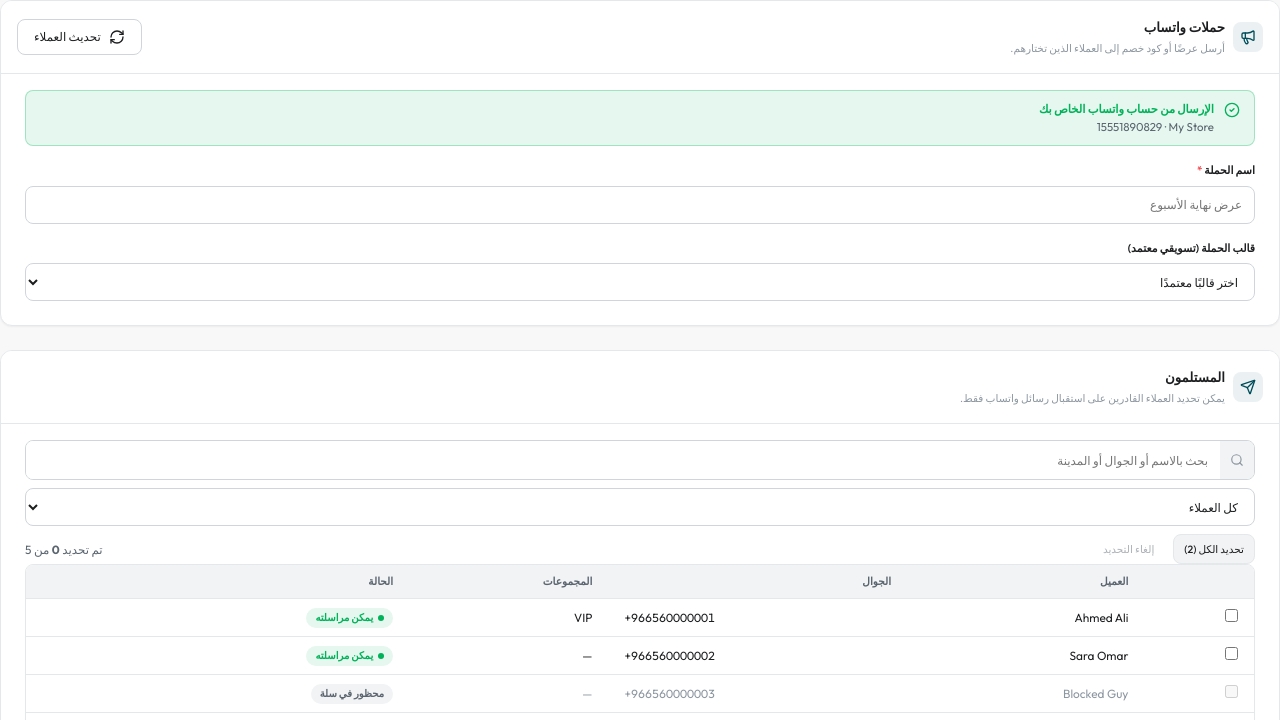
Test: CampaignsTab › filters by customer group
Expected: the text "Ahmed Ali" is shown, [907, 598, 1144, 637]
Select "VIP" in the dropdown named "مجموعة العملاء" at (640, 507), box [25, 488, 1255, 526]
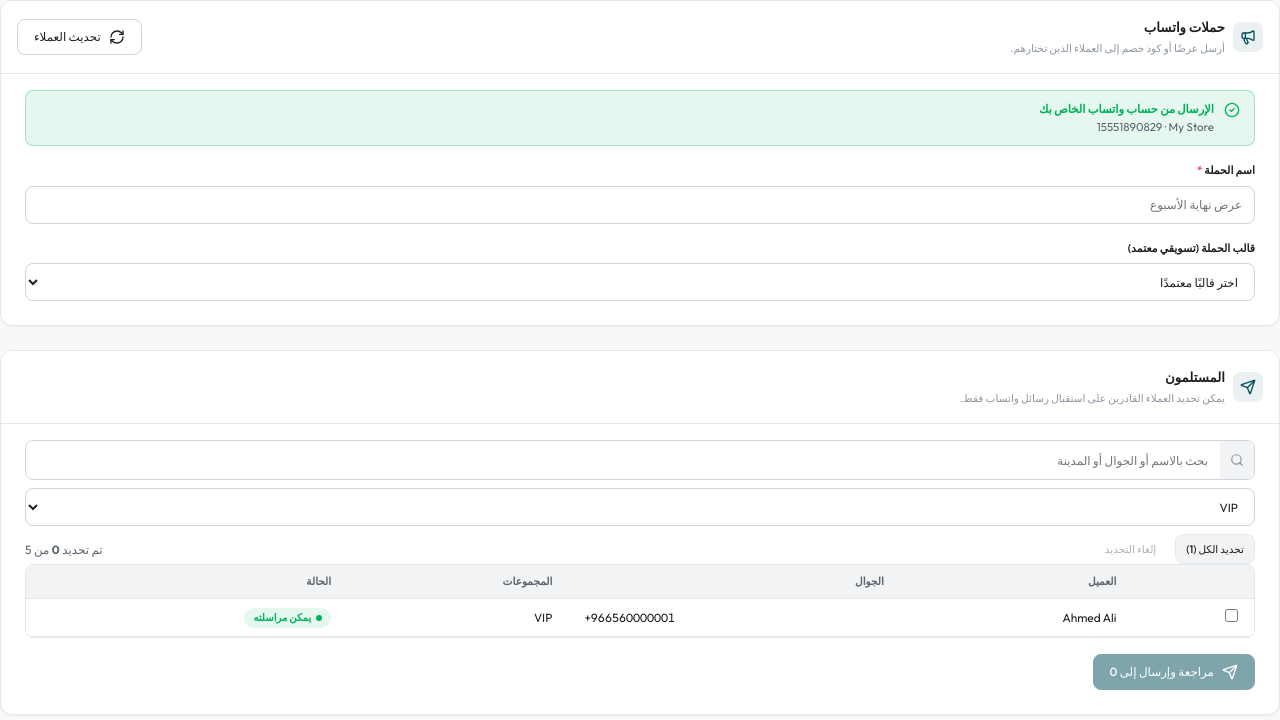
Expected: the text "Ahmed Ali" is shown, [900, 598, 1132, 637]
Expected: the text "Sara Omar" is gone
